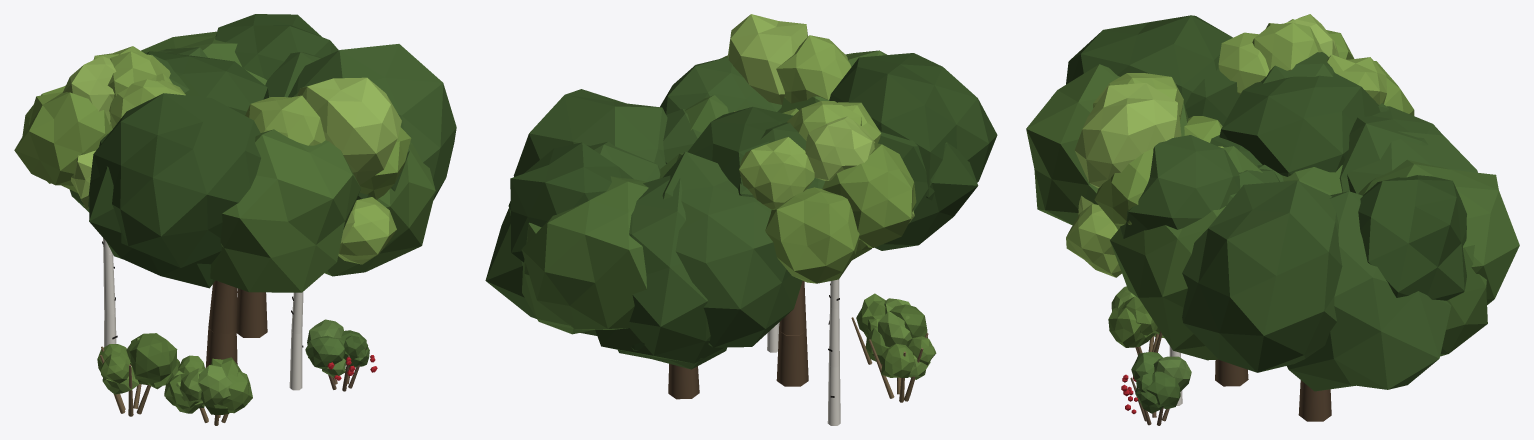
The model's file is kurtyna.glb.
3 views of the same model, side by side, from view 1: azimuth 30°, elevation 25°; view 2: azimuth 150°, elevation 25°; view 3: azimuth 270°, elevation 25° (orthographic). The views are drawn at different scales.
Parts seen in each view (by area): view 1: leaves (×28), trunk (×6); view 2: leaves (×29), trunk (×5); view 3: leaves (×31), trunk (×2).
Part boxes in pixels (x1=…): leaves (×28): x1=14, y1=14, x2=456, y2=413; trunk (×6): x1=103, y1=253, x2=303, y2=390; leaves (×29): x1=485, y1=14, x2=997, y2=377; trunk (×5): x1=668, y1=281, x2=840, y2=425; leaves (×31): x1=1026, y1=14, x2=1519, y2=409; trunk (×2): x1=1215, y1=359, x2=1331, y2=421.
Bounding box in the file's own units: 13.99 × 10.41 × 14.2.
